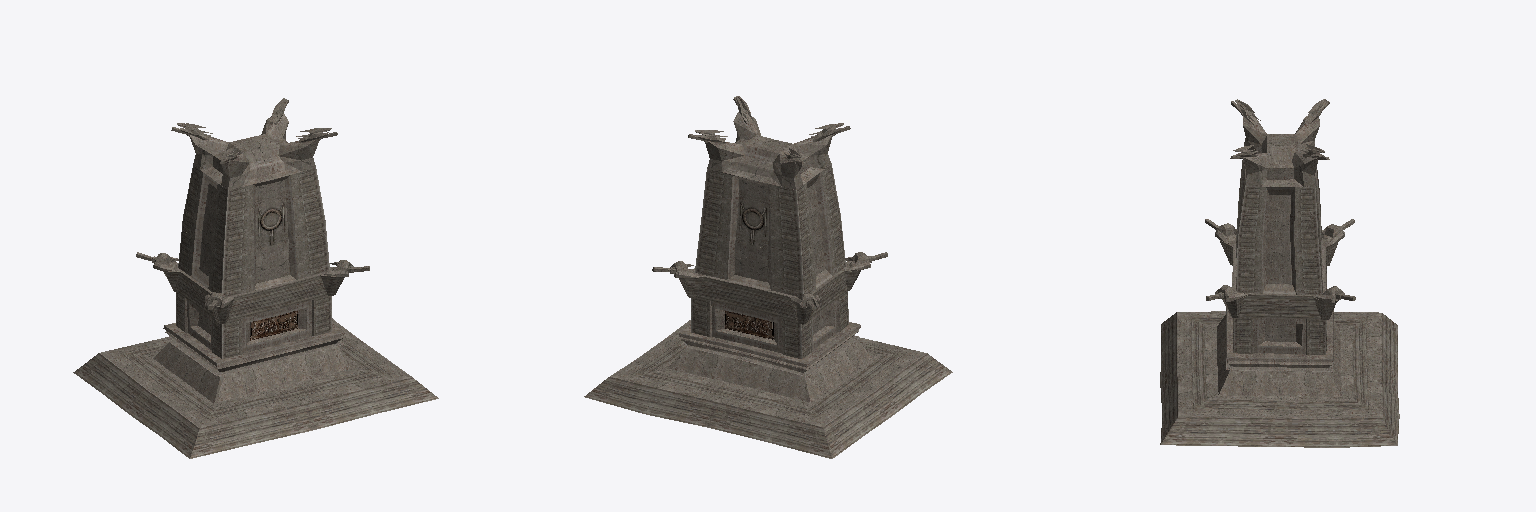
3 renders of one model, left to right at view 1: azimuth 30°, elevation 25°; view 2: azimuth 150°, elevation 25°; view 3: azimuth 270°, elevation 25°, orthographic.
Visible parts, largest first — view 1: Node 0, Node 50, Node 7, Node 9, Node 8; view 2: Node 0, Node 50, Node 7, Node 9, Node 8; view 3: Node 0, Node 7, Node 8, Node 9.
Part boxes in pixels (left/top/right/bottom): Node 0: left=73, top=228, right=438, bottom=458; Node 50: left=182, top=165, right=271, bottom=256; Node 7: left=270, top=168, right=327, bottom=246; Node 9: left=190, top=135, right=271, bottom=189; Node 8: left=248, top=98, right=319, bottom=179; Node 0: left=584, top=216, right=952, bottom=458; Node 50: left=752, top=165, right=840, bottom=261; Node 7: left=699, top=169, right=753, bottom=258; Node 9: left=751, top=123, right=850, bottom=189; Node 8: left=688, top=112, right=773, bottom=178; Node 0: left=1160, top=201, right=1399, bottom=447; Node 7: left=1237, top=180, right=1320, bottom=264; Node 8: left=1243, top=143, right=1329, bottom=187; Node 9: left=1231, top=99, right=1319, bottom=153.
Size of the model in its own units: 55.08 by 54.98 by 45.44.
Materials: 52 (3 with a texture image).